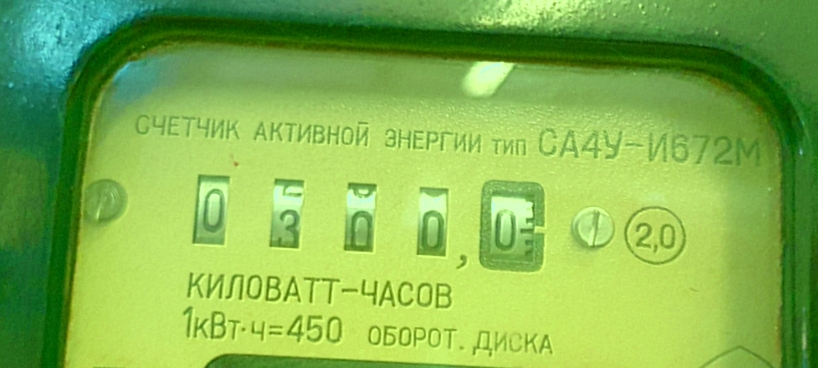0: (490, 205, 520, 255), (415, 207, 446, 255), (199, 183, 227, 236), (345, 205, 374, 255)
3: (272, 205, 302, 250)
screen: (170, 156, 556, 282)
